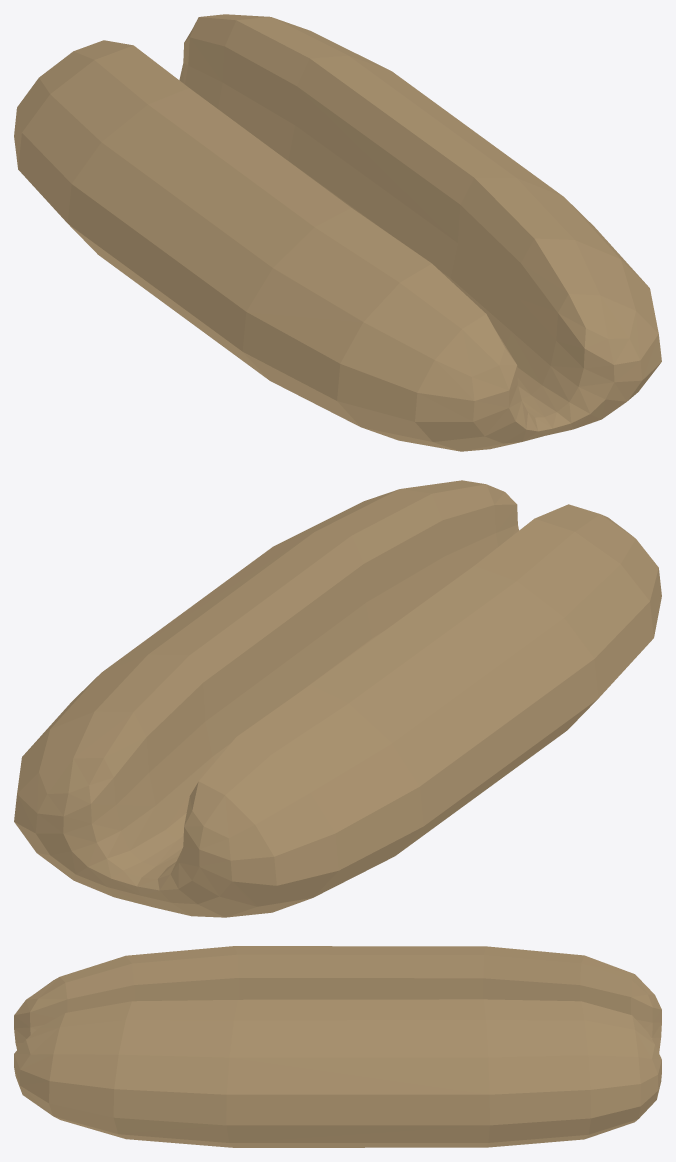
The model's file is Hotdog_Bun.glb.
The picture shows the model from 3 angles, top to bottom: view 1: azimuth 30°, elevation 25°; view 2: azimuth 150°, elevation 25°; view 3: azimuth 270°, elevation 25°; orthographic projection. The views are drawn at different scales.
Parts seen in each view (by area): view 1: Hotdog_Bun; view 2: Hotdog_Bun; view 3: Hotdog_Bun.
Boxes of the visible parts, x1=… form: Hotdog_Bun: x1=14, y1=14, x2=661, y2=451; Hotdog_Bun: x1=14, y1=480, x2=661, y2=917; Hotdog_Bun: x1=14, y1=946, x2=661, y2=1147.
Size of the model in its own units: 0.7853 by 0.4093 by 1.64.
